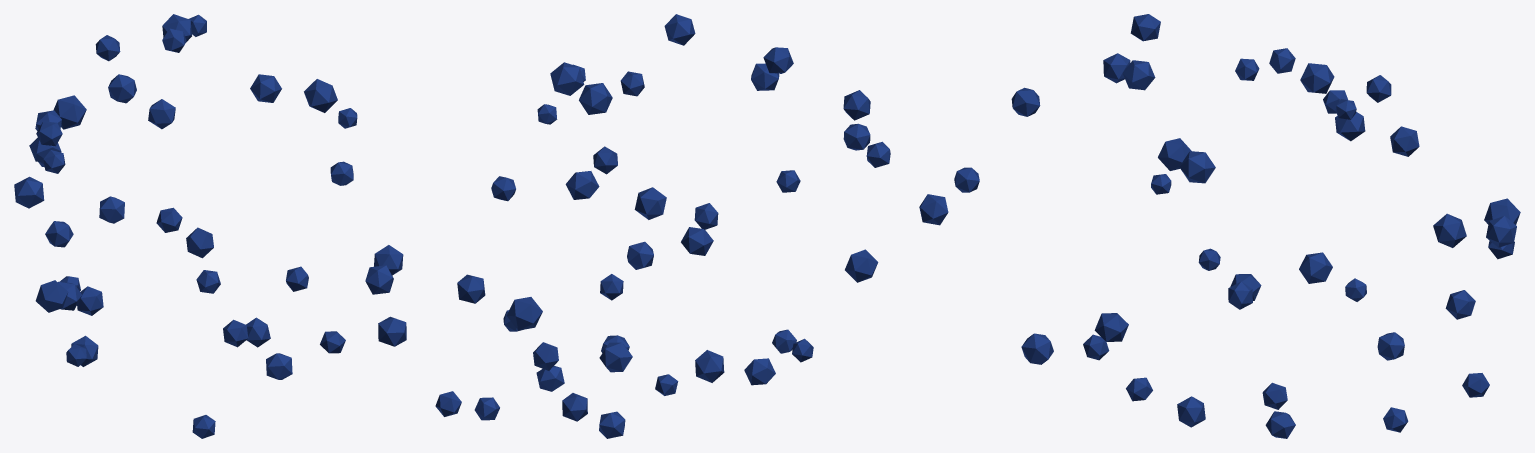
The model's file is BerryBush2_berries.fbx.
3 views of the same model, side by side, from view 1: azimuth 30°, elevation 25°; view 2: azimuth 150°, elevation 25°; view 3: azimuth 270°, elevation 25° (orthographic). The views are drawn at different scales.
Parts seen in each view (by area): view 1: Berry2; view 2: Berry2; view 3: Berry2.
Boxes of the visible parts, x1,y1,x2,y2 form: Berry2: (14,14,406,438); Berry2: (435,14,890,438); Berry2: (919,14,1520,438).
Size of the model in its own units: 106 by 97.53 by 153.
